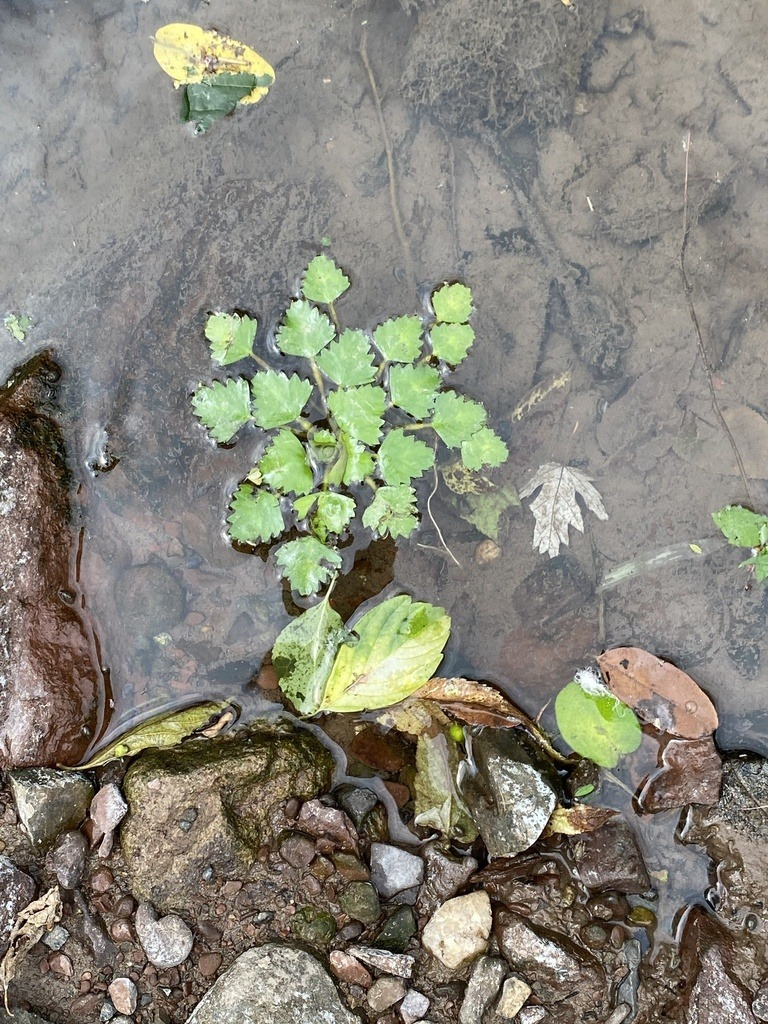water chestnut: (188, 249, 513, 719), (149, 20, 277, 136)
